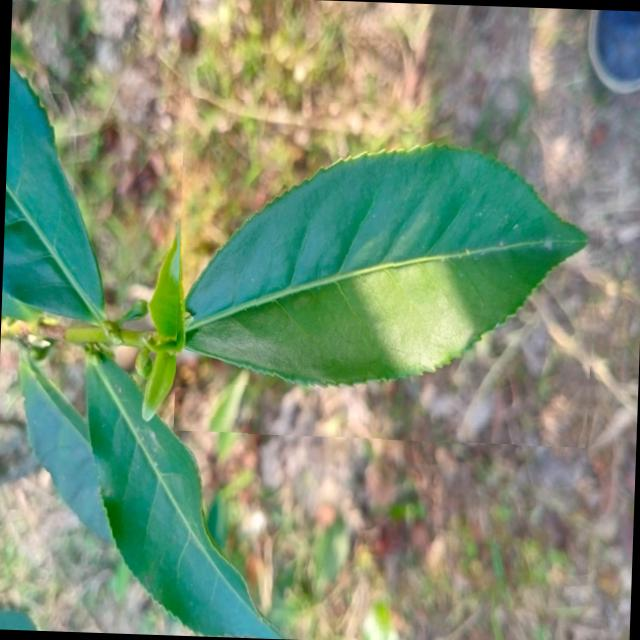Category D 7+ days, Not for Tea: (172, 97, 605, 448)
